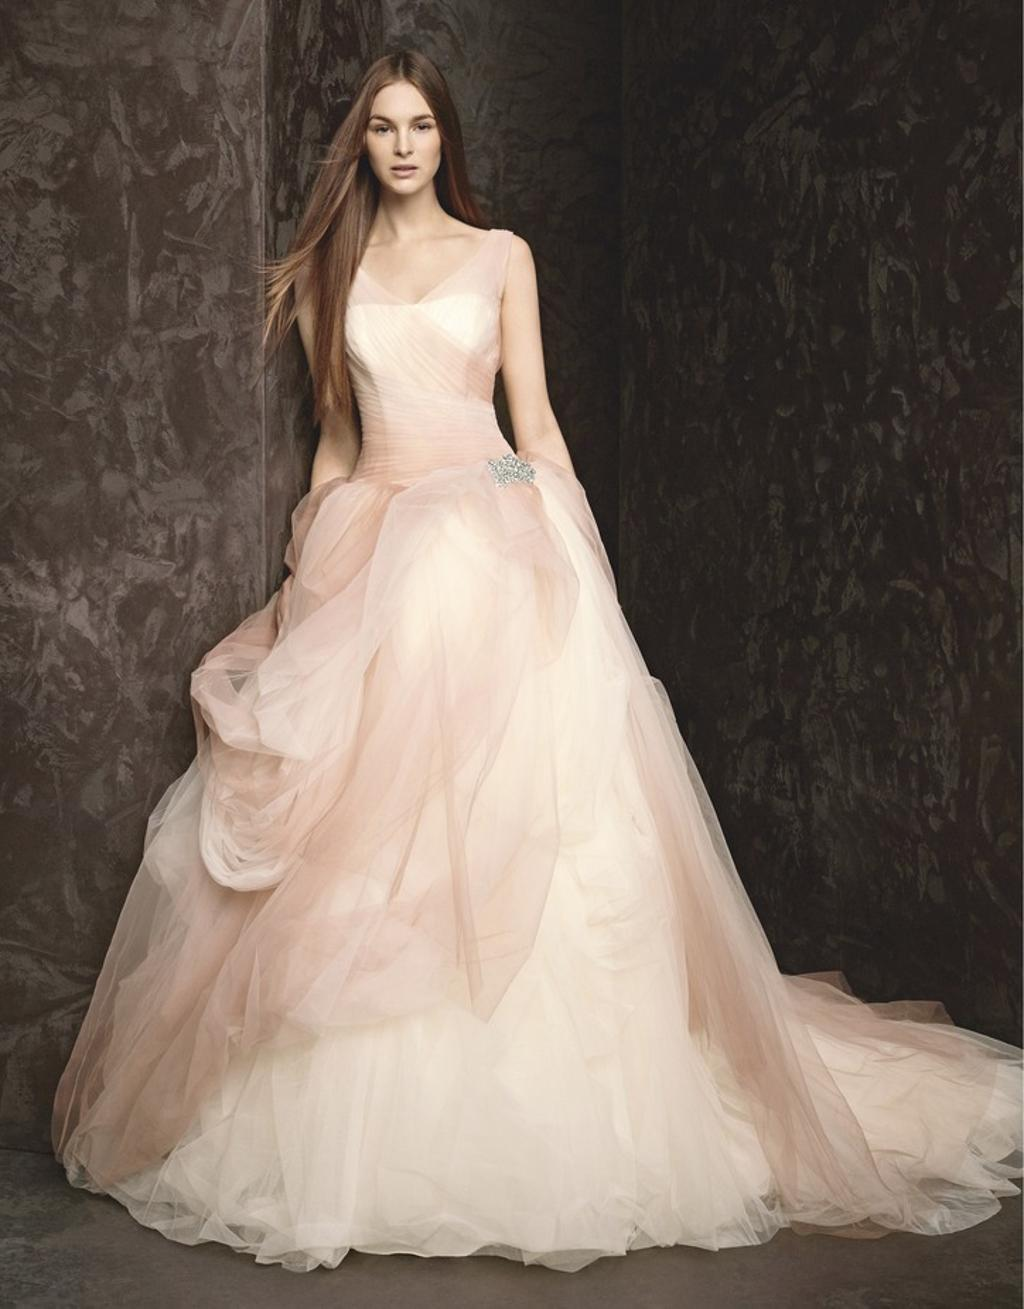face: (365, 82, 442, 194)
